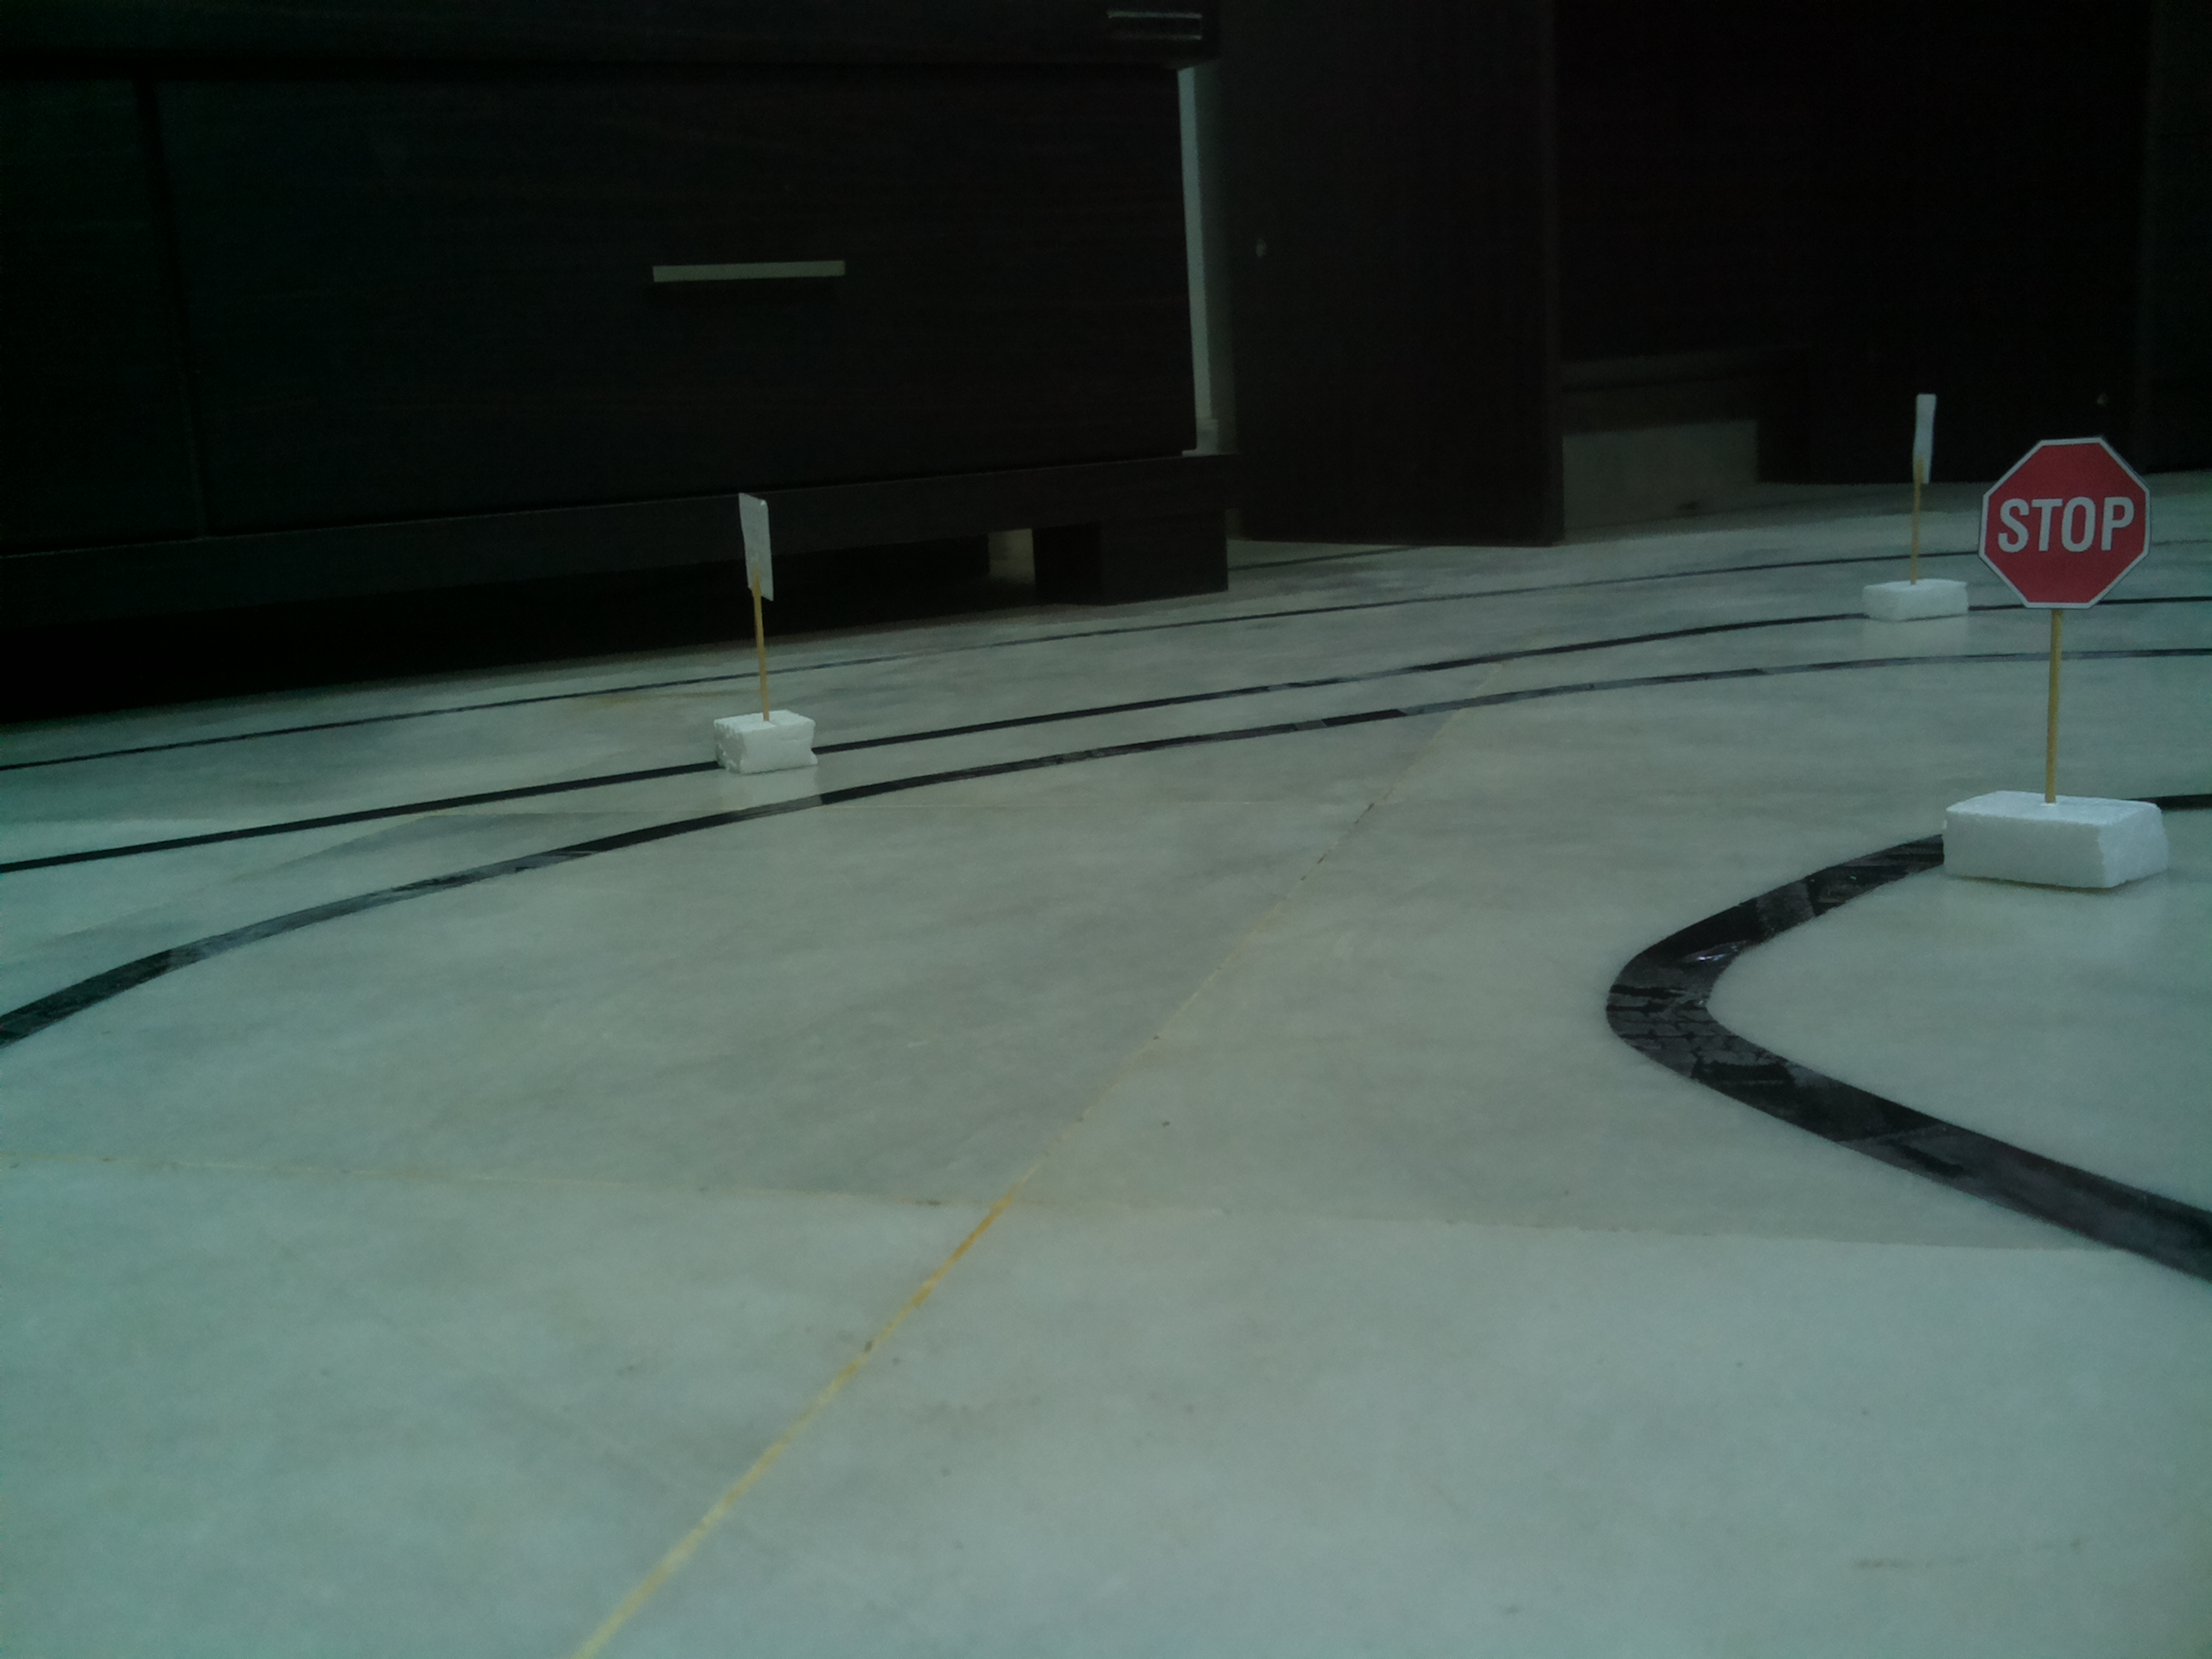Stop sign: (1977, 434, 2155, 612)
